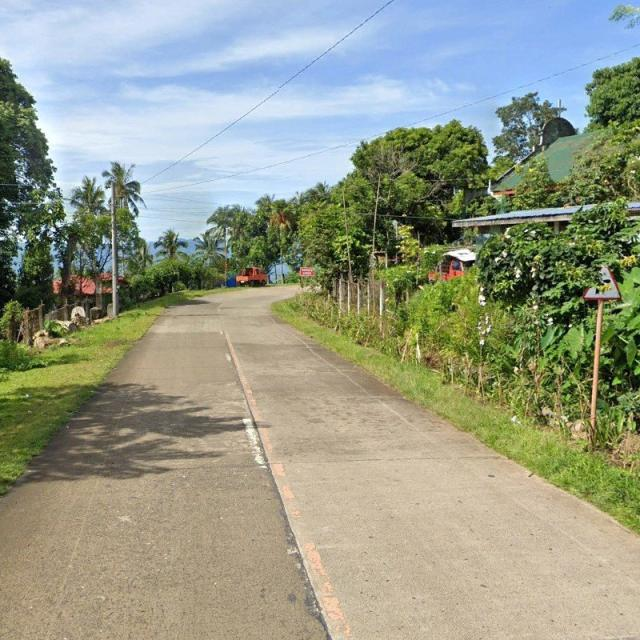warn_right_curve: (582, 262, 622, 300)
